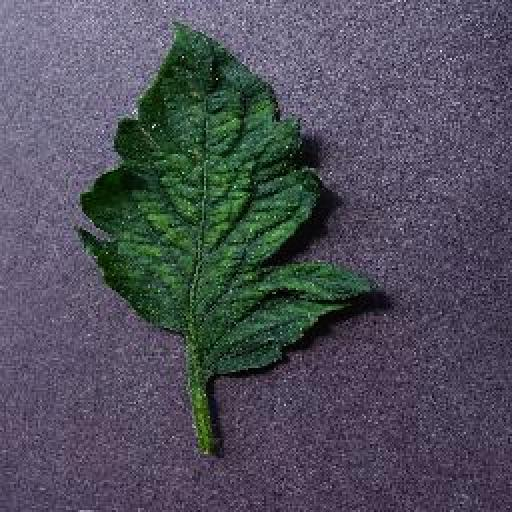Mosaic Virus: (74, 18, 378, 376)
